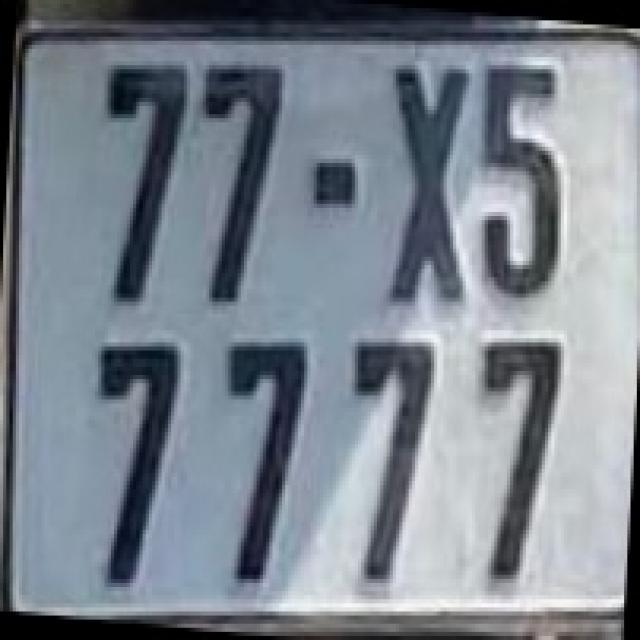5: (479, 57, 567, 298)
7: (475, 330, 567, 583), (95, 334, 184, 583), (352, 330, 437, 583), (222, 330, 307, 583), (200, 57, 285, 302), (104, 61, 187, 302)
X: (383, 65, 469, 302)
